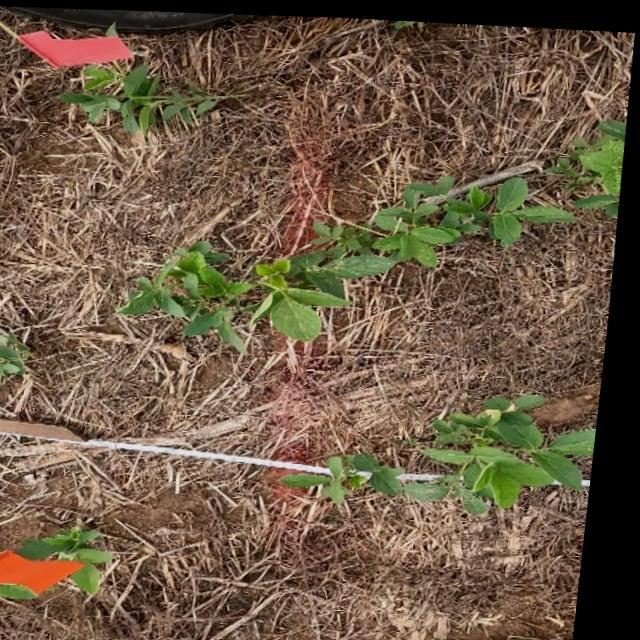soy_plant: (126, 170, 576, 350), (292, 388, 605, 507), (29, 525, 121, 590), (575, 115, 626, 190), (0, 334, 31, 386), (123, 74, 157, 108), (8, 583, 47, 598)
